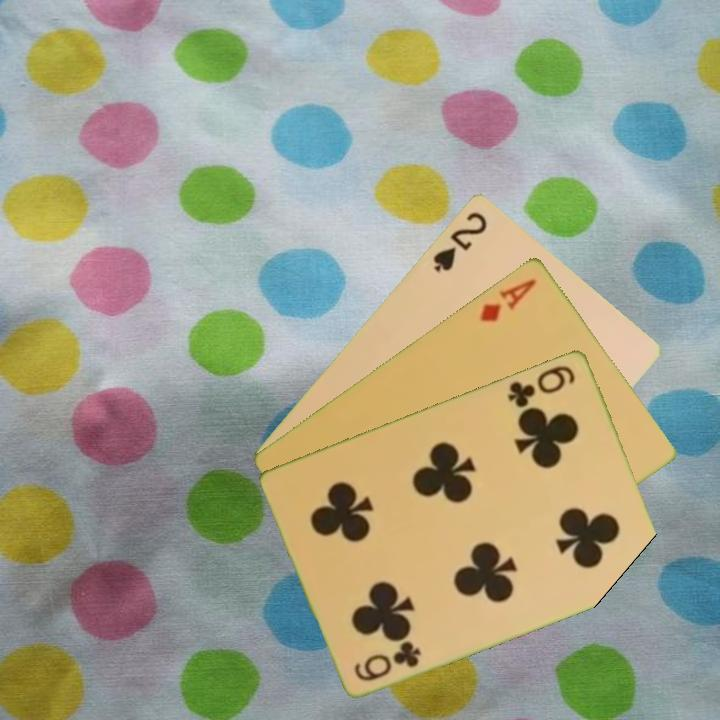2s: (429, 207, 490, 275)
6c: (504, 361, 578, 410), (351, 637, 424, 684)
Ad: (476, 274, 539, 325)
